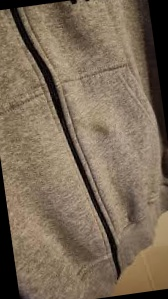oil: (95, 123, 116, 144)
